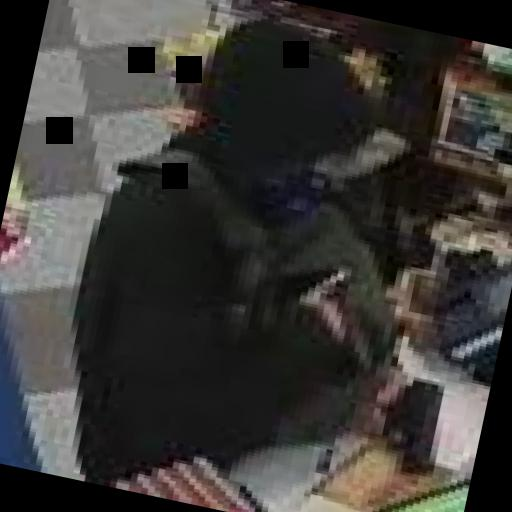Handgun: (349, 358, 453, 480)
